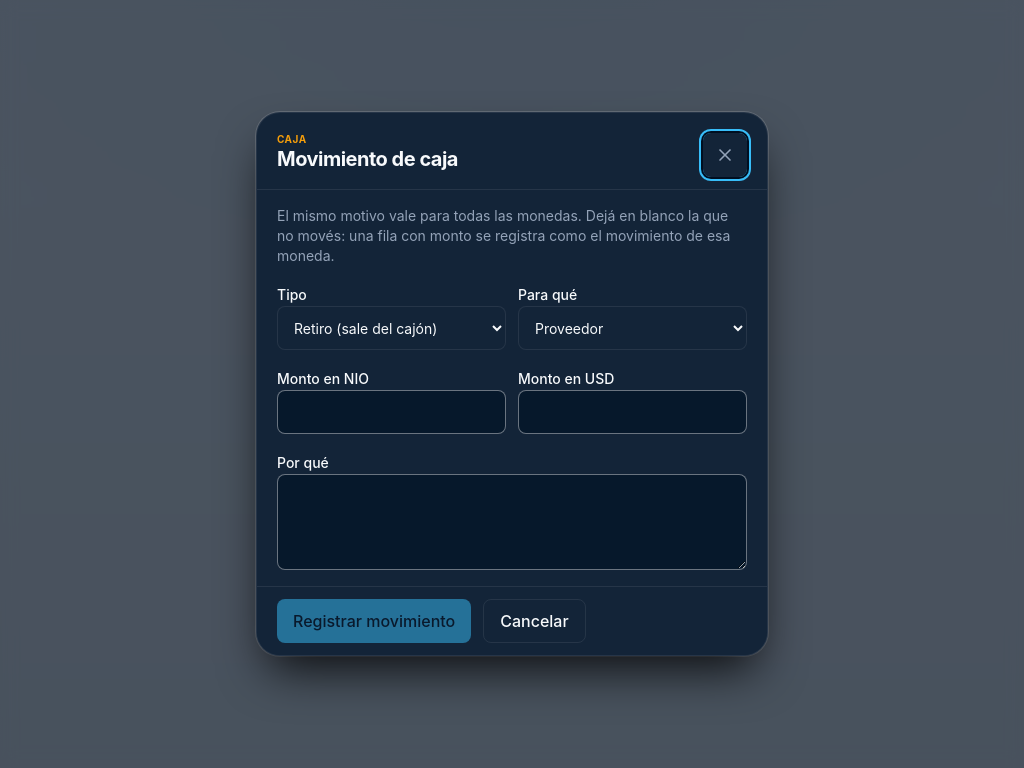
CashMovementSheet › si una moneda falla, dice cuál entró y cuál no
Step 1. Type "500" into the number field labelled "Monto en NIO" → (392, 412), box [277, 390, 506, 434]
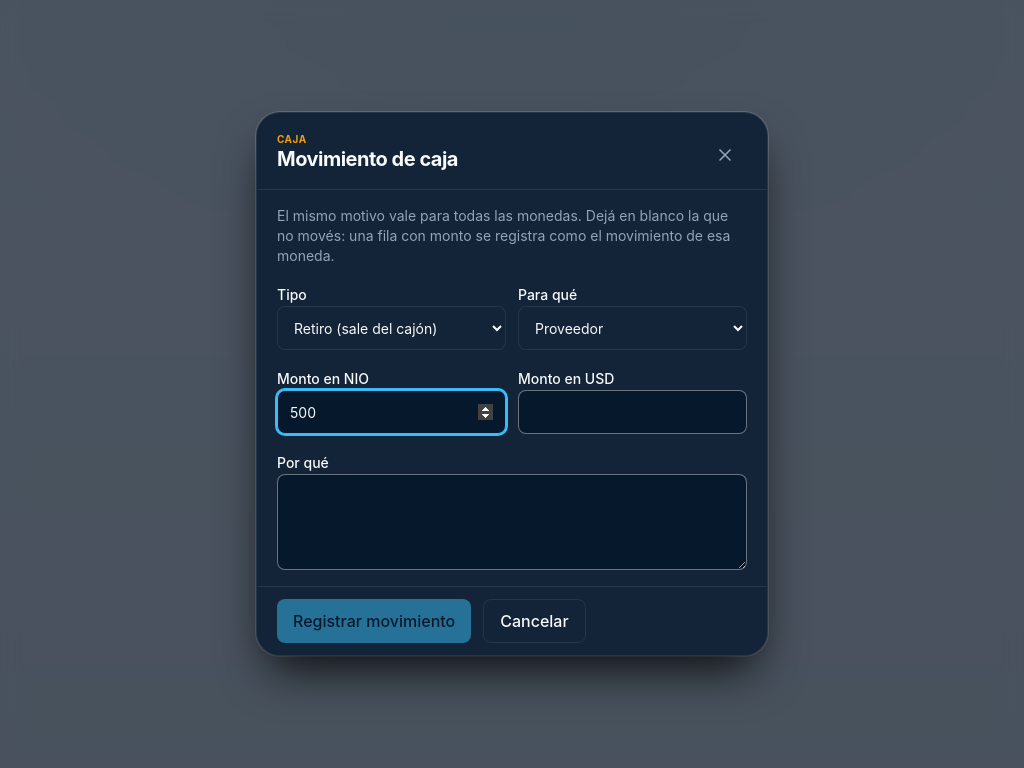
Step 2. Type "20" into the number field labelled "Monto en USD" → (632, 412), box [518, 390, 747, 434]
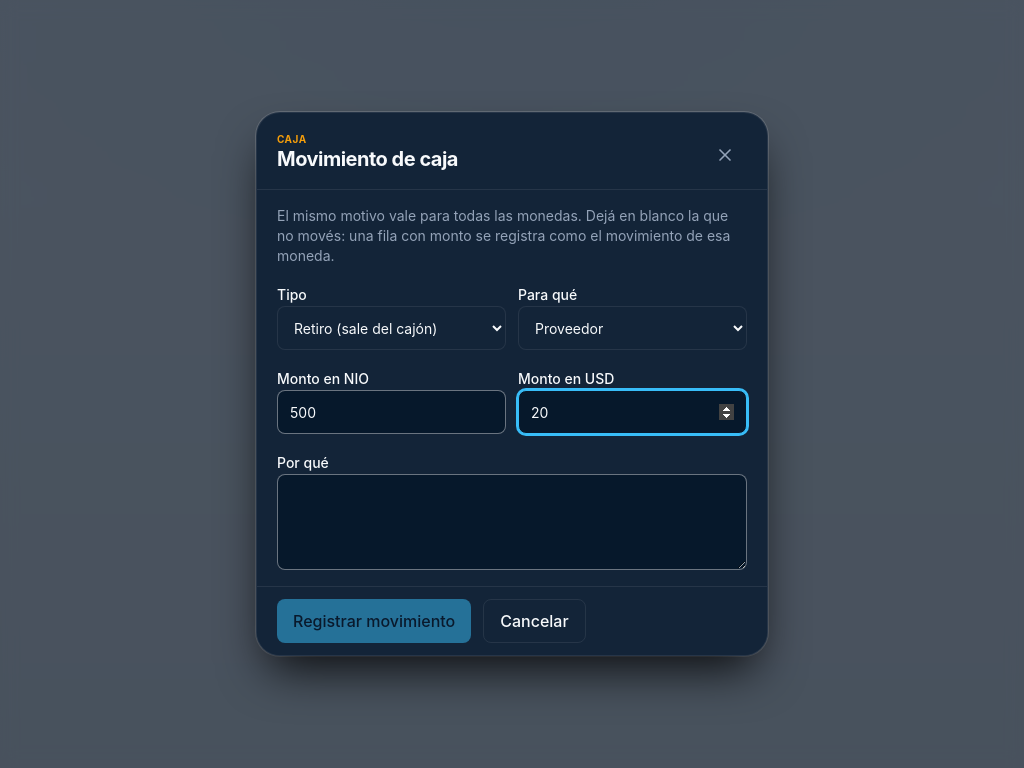
Step 3. Type "Retiro para el proveedor" into the text box labelled "Por qué" → (512, 522), box [277, 474, 747, 570]
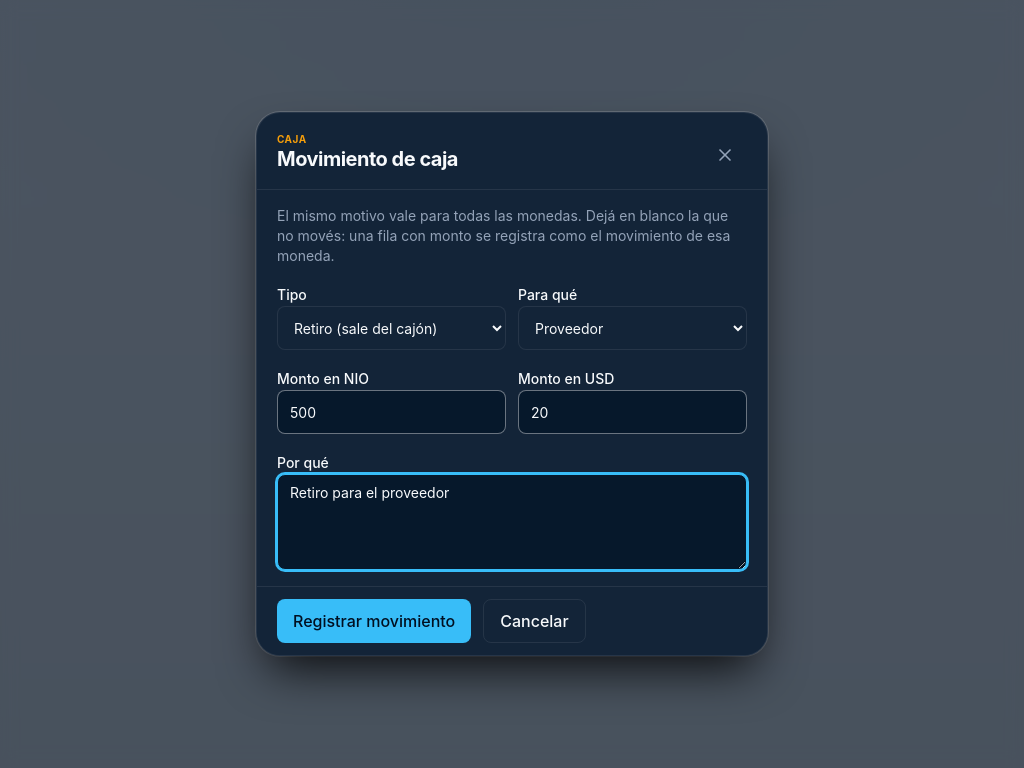
Step 4. Click the button "Registrar movimiento" → click(374, 621), box [277, 599, 471, 643]
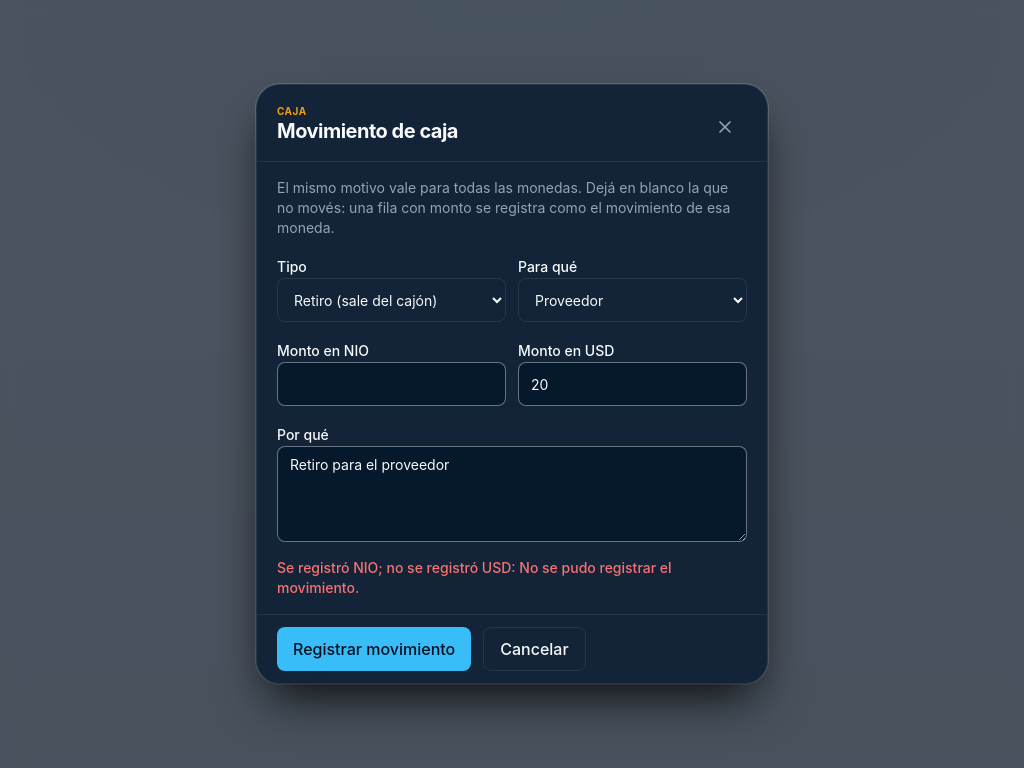
Now the message shows "NIO", box [277, 559, 672, 596]
Now the message shows "USD", box [277, 559, 672, 596]
Now the message shows "no se registr", box [277, 559, 672, 596]
